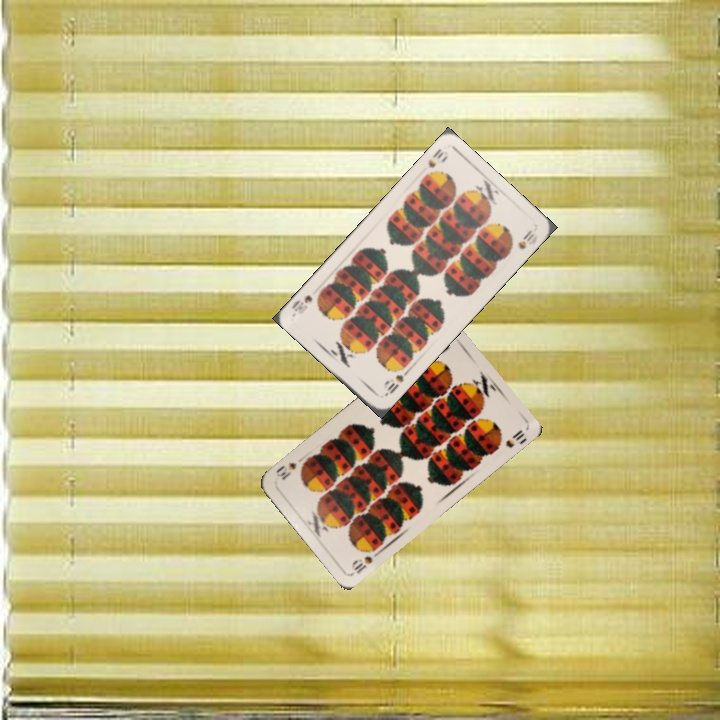S10: (347, 543, 382, 577), (420, 144, 451, 180), (380, 366, 411, 400)
